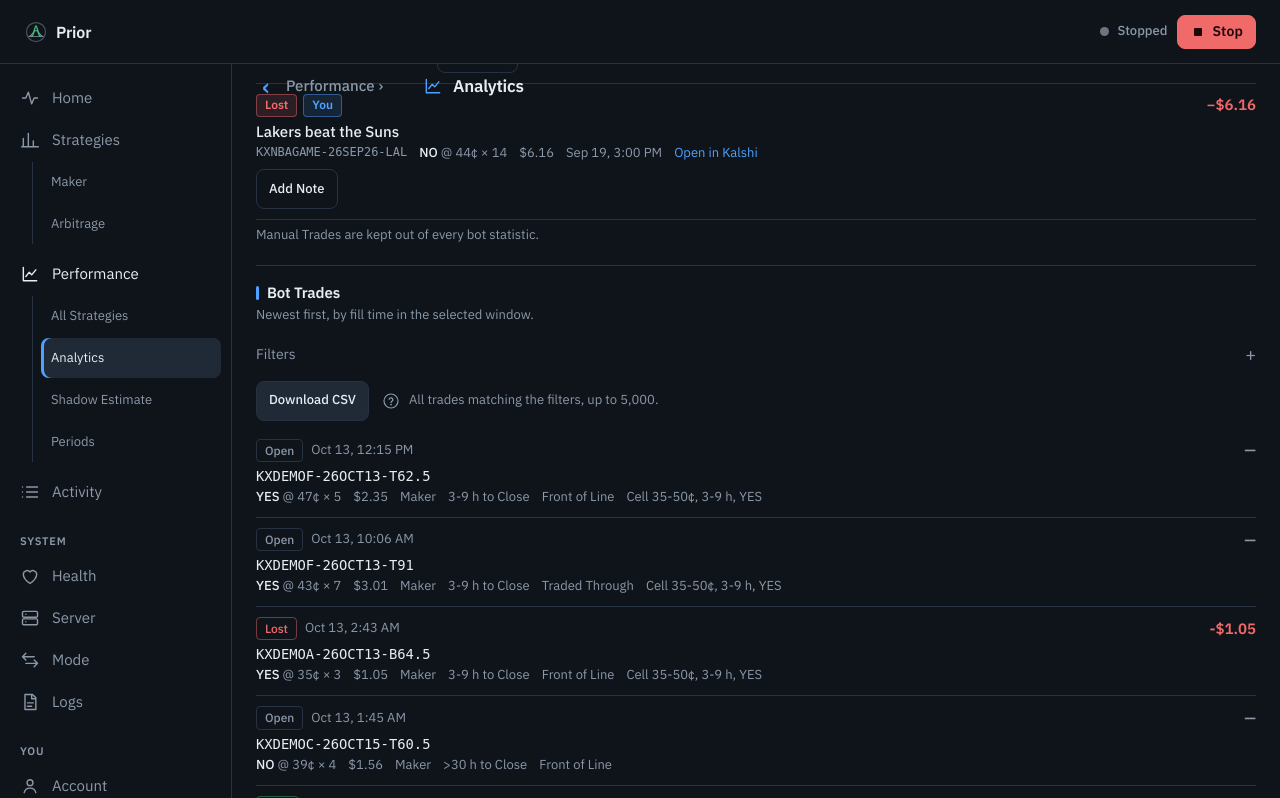
Test: CSV download (item 7) › X-Truncated: true tells the owner only the first 5,000 were saved
(page scrolled)
Click the button "Download CSV": (312, 401) left=256, top=381, right=369, bottom=421
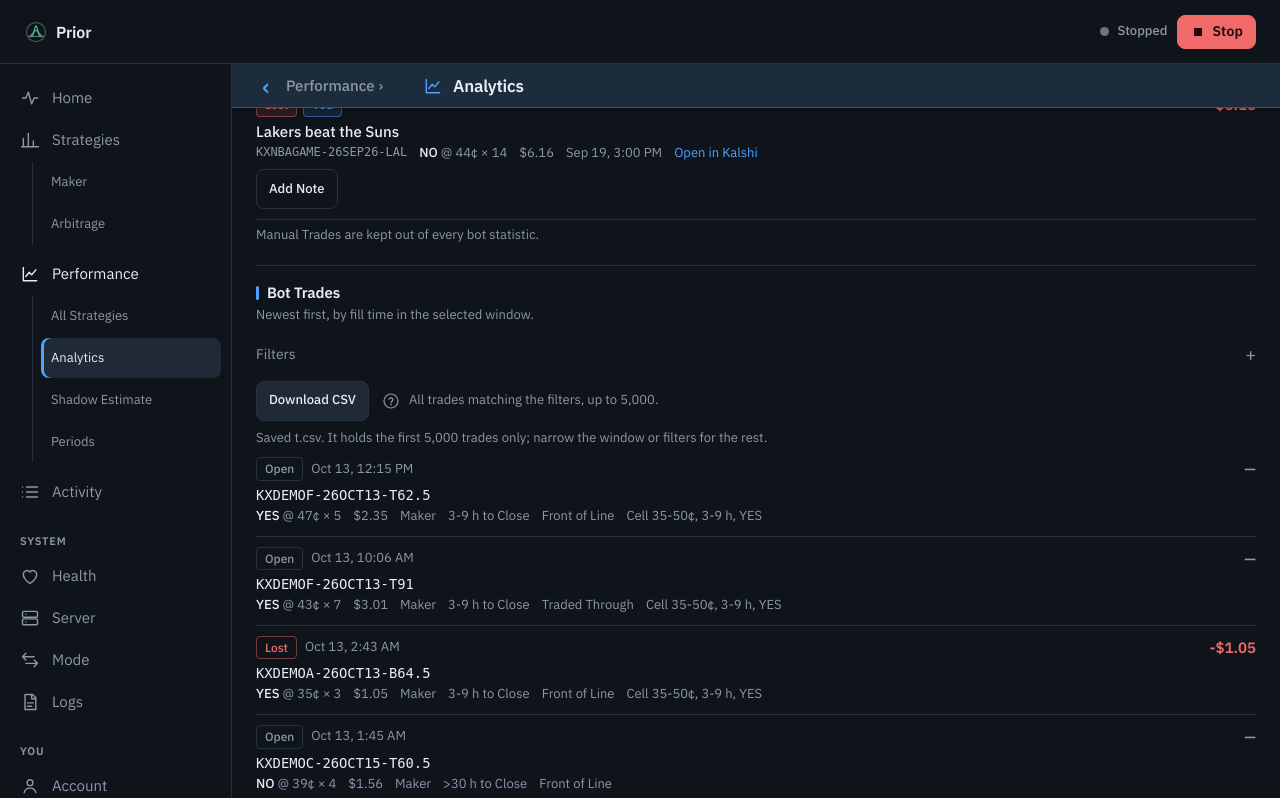
Check: the text "Saved t.csv. It holds the first 5,000 trades only" is shown, box left=256, top=429, right=767, bottom=446
